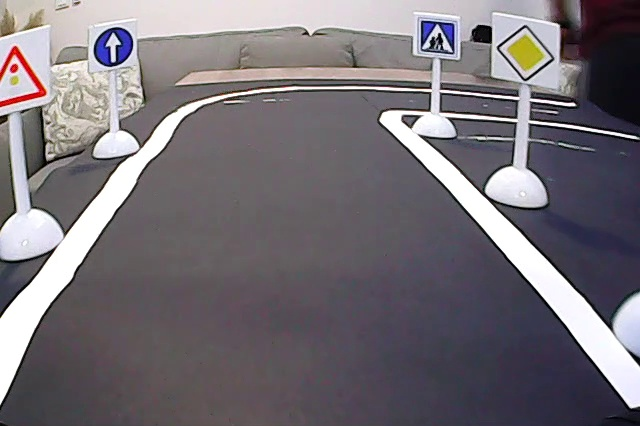red light: (3, 40, 49, 108)
school crossing: (417, 15, 459, 57)
